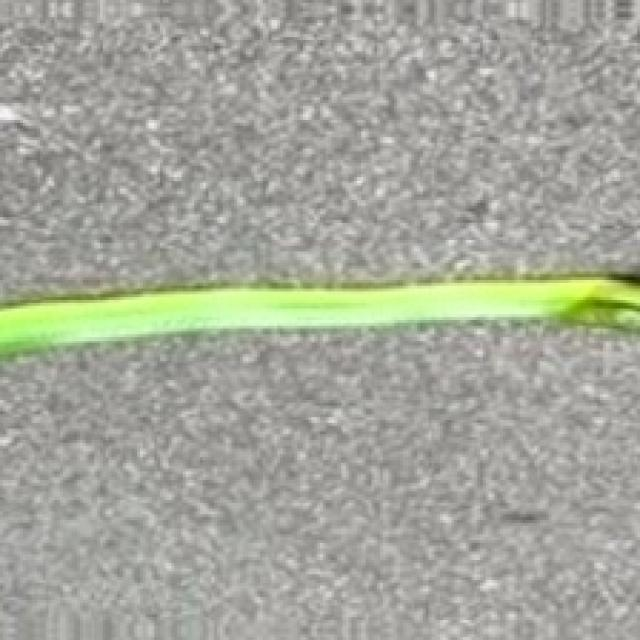red-tailed green ratsnake: (0, 278, 640, 356)
